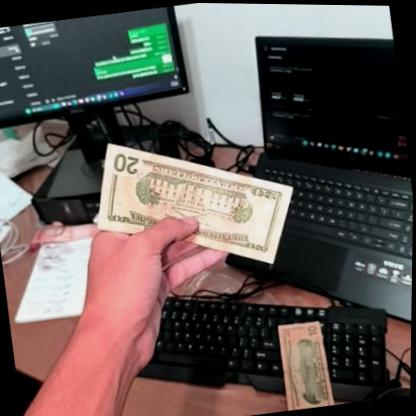ten-back: (274, 317, 337, 409)
twenty-back: (79, 116, 305, 288)
